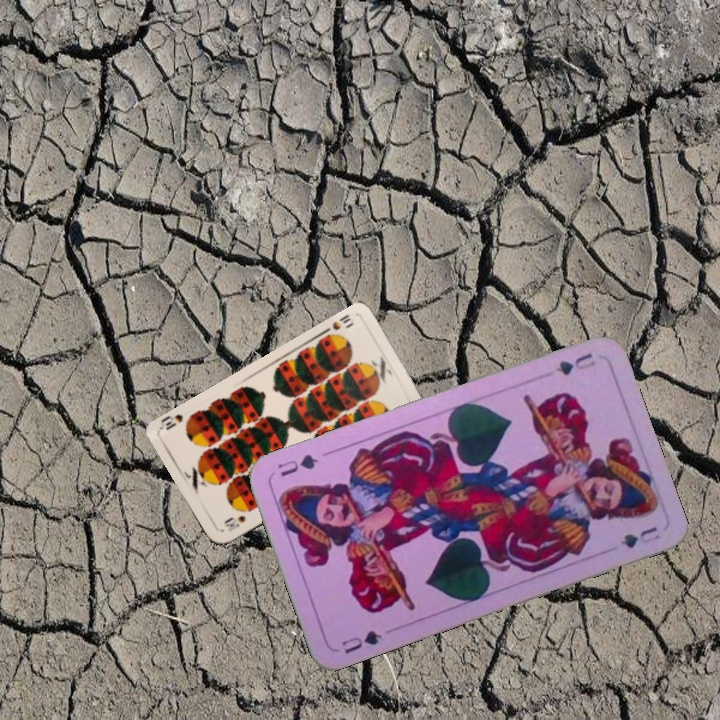GU: (338, 626, 385, 657), (551, 349, 598, 378)
S10: (222, 511, 248, 534), (328, 310, 353, 333)
